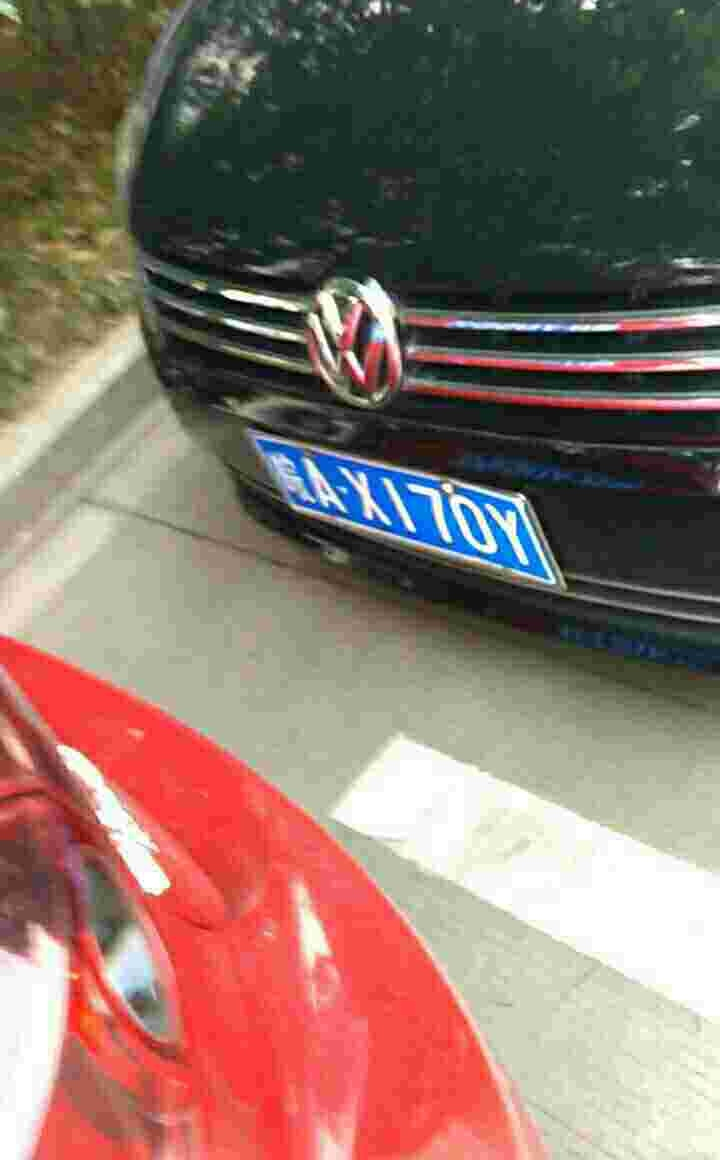license_plate: (265, 439, 562, 579)
